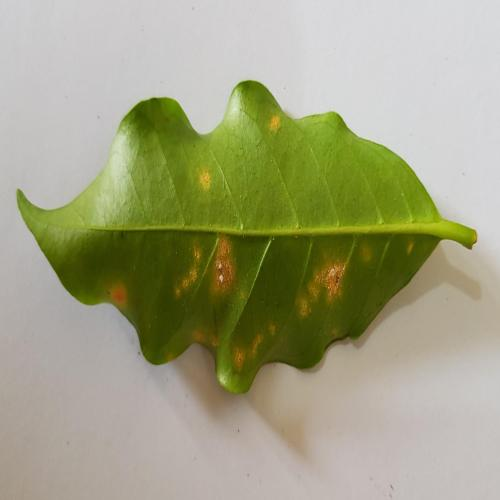phoma: (270, 115, 280, 130)
